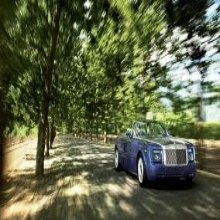no damage: (114, 120, 198, 188)
